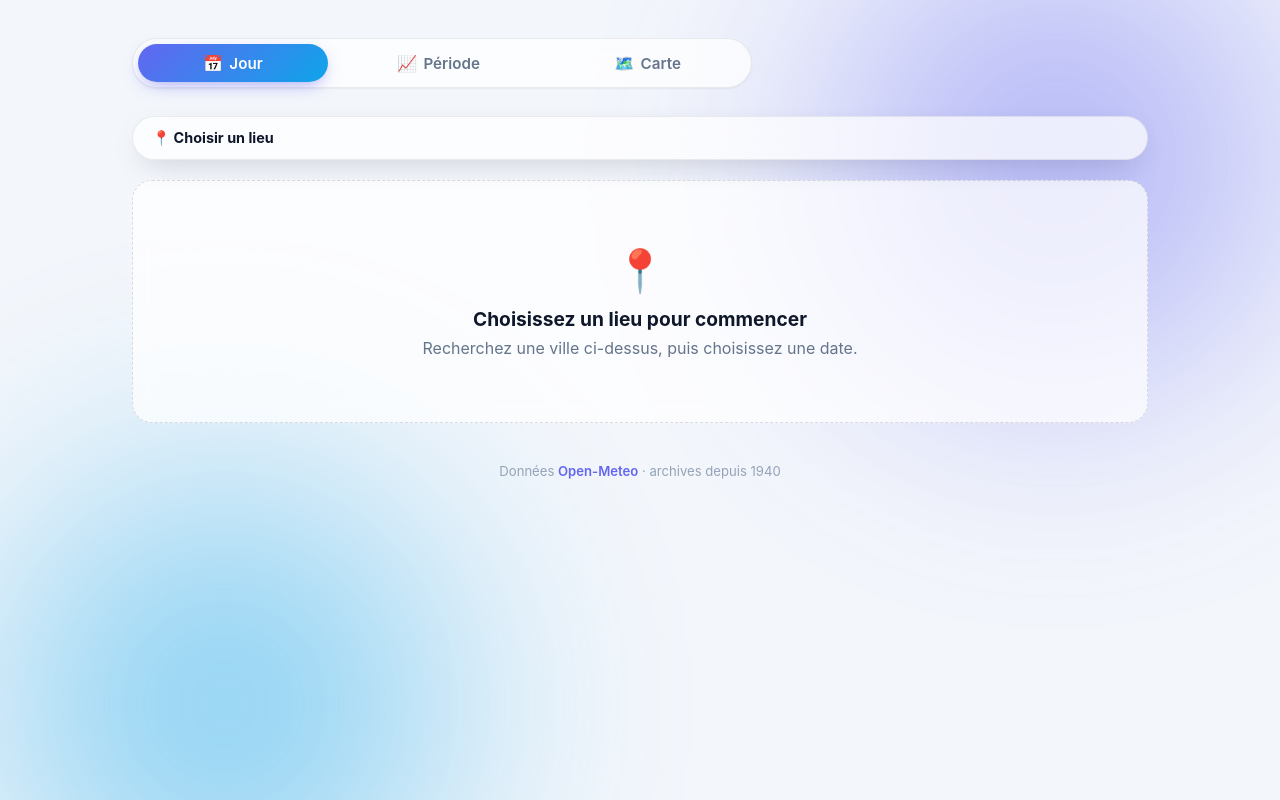
App › opens the location search from the context bar
Click the button "📍 Choisir un lieu" at (213, 138), box left=143, top=124, right=283, bottom=152
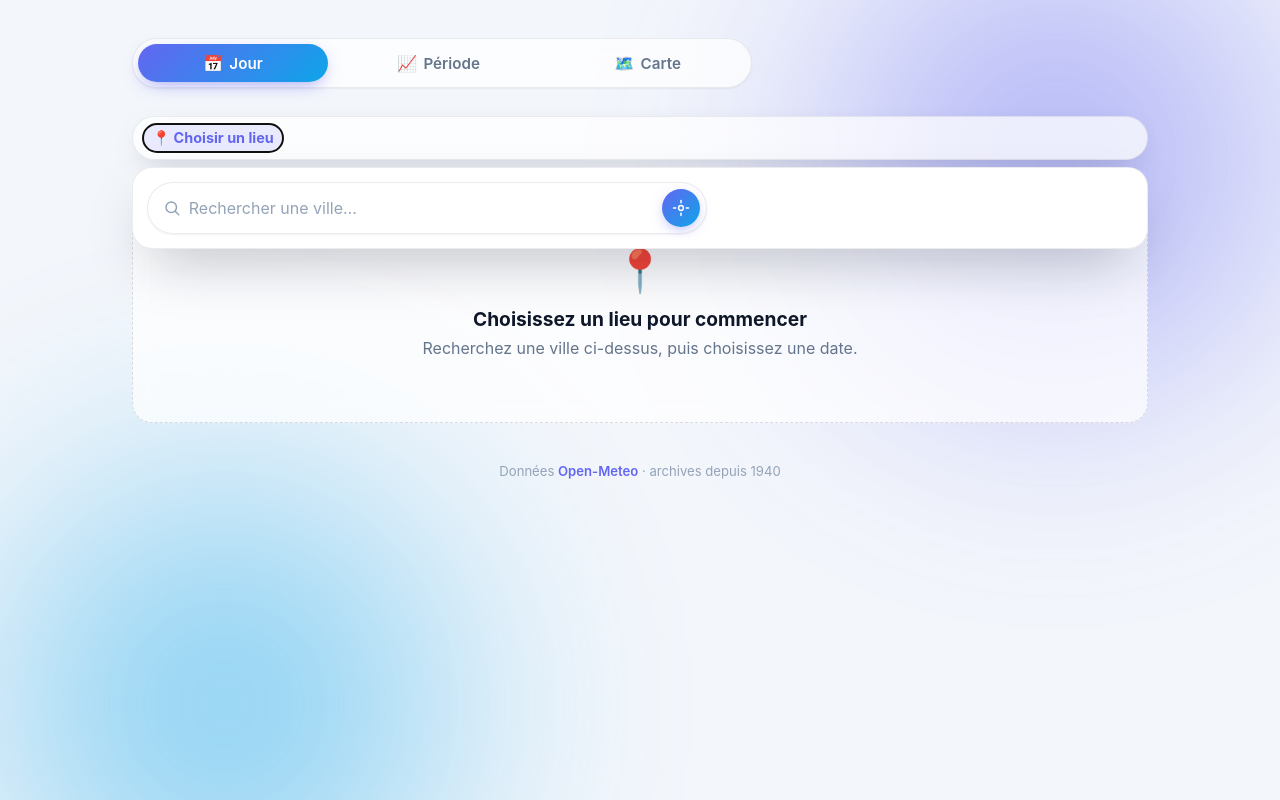
Result: the field named "rechercher un lieu" is shown at left=189, top=190, right=654, bottom=225
